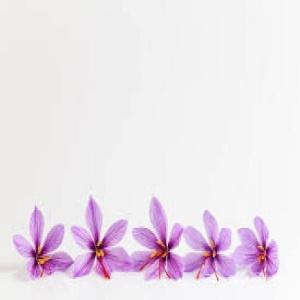Saffron: (71, 194, 130, 275), (127, 195, 183, 280), (14, 206, 74, 275), (179, 210, 231, 279), (233, 215, 279, 280)
